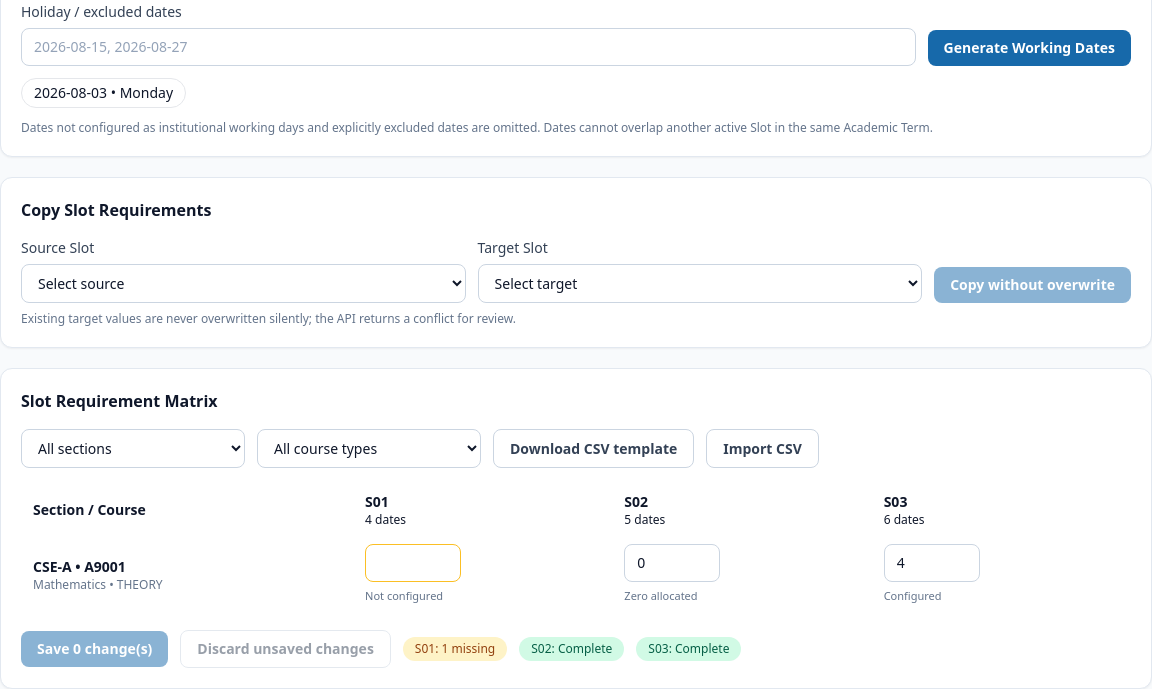
Test: Scheduling Slot management › warns immediately when edited Slot totals exceed the semester requirement
The width and height of the screenshot is (1152, 689).
(page scrolled)
Type "10" into the number field named "Sessions for A9001 / CSE-A in S01" at {"x": 413, "y": 563}, box x1=365 y1=544 x2=461 y2=582
(page scrolled)
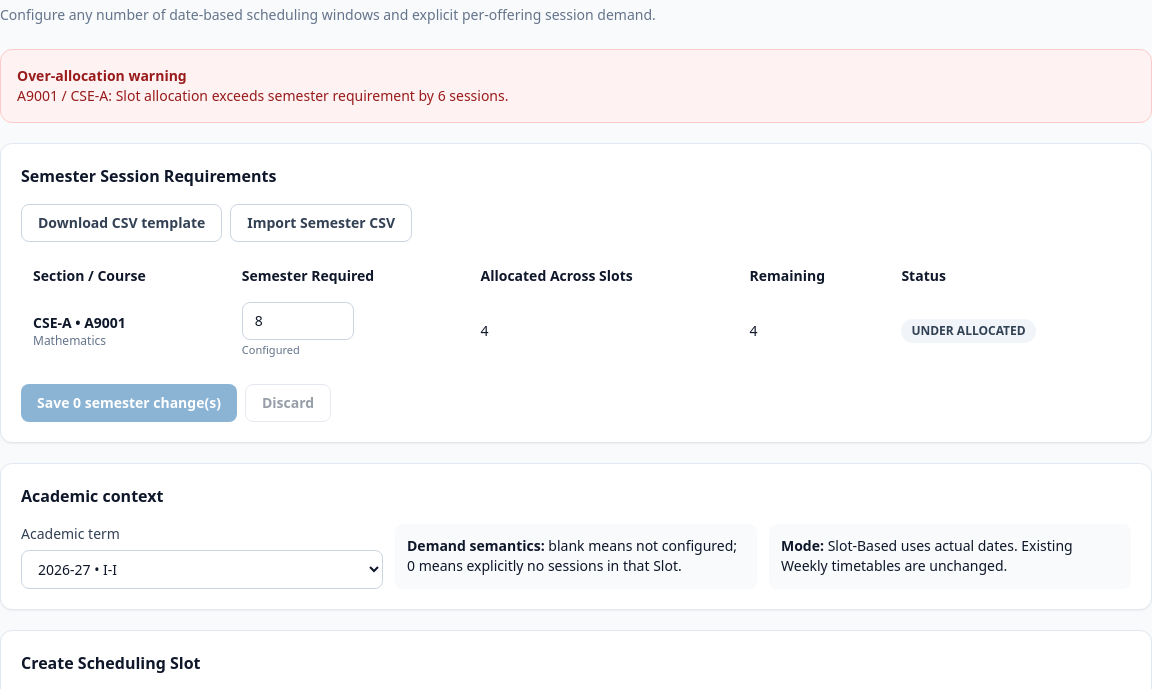
Expected: the message shows "exceeds semester requirement by 6 sessions", x1=17 y1=86 x2=508 y2=105
